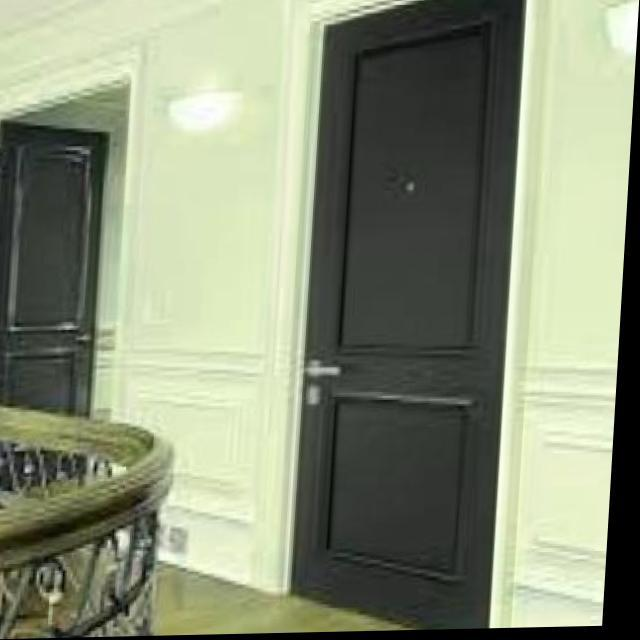door_handle: (306, 359, 353, 386)
